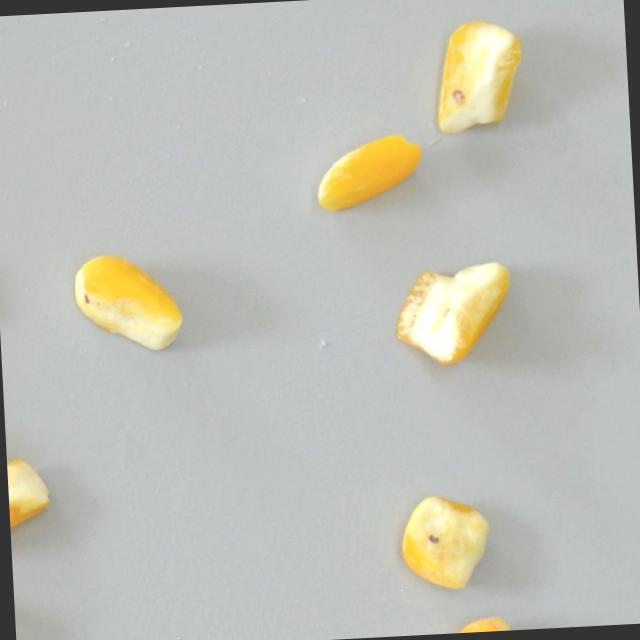dañado: (426, 19, 529, 136), (442, 612, 540, 634)
pelicula: (312, 130, 428, 213)
punto_negro: (391, 251, 519, 371), (71, 248, 190, 357), (381, 487, 500, 596), (6, 447, 54, 551)
